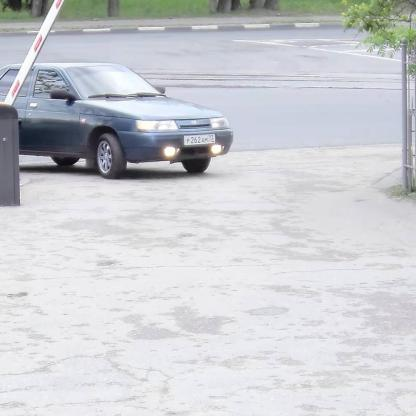plate: (184, 134, 215, 144)
